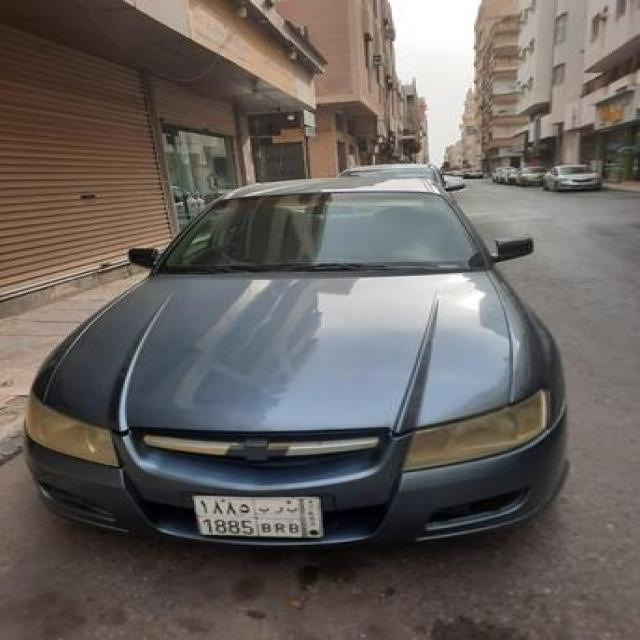license_plate: (180, 484, 328, 542)
